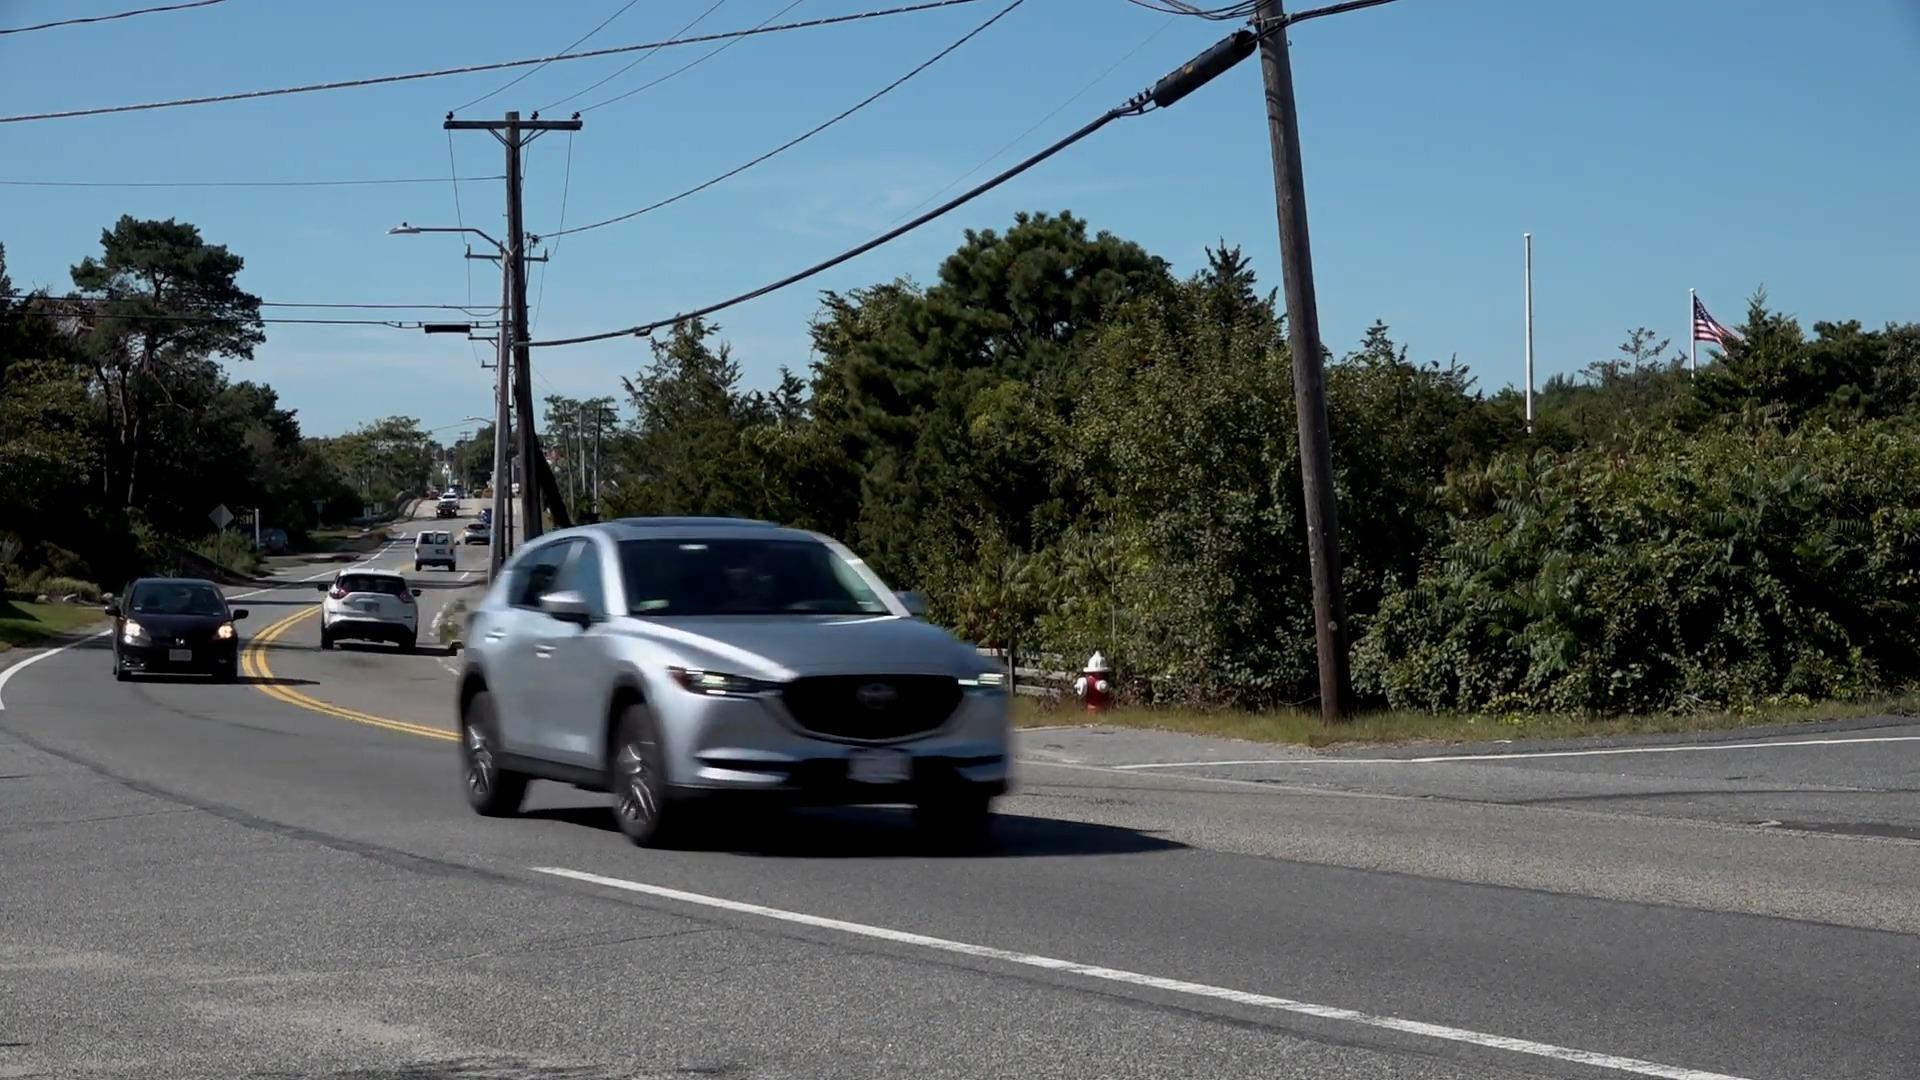sedans: (111, 561, 243, 693)
suv: (461, 514, 1016, 857), (318, 558, 427, 655)
